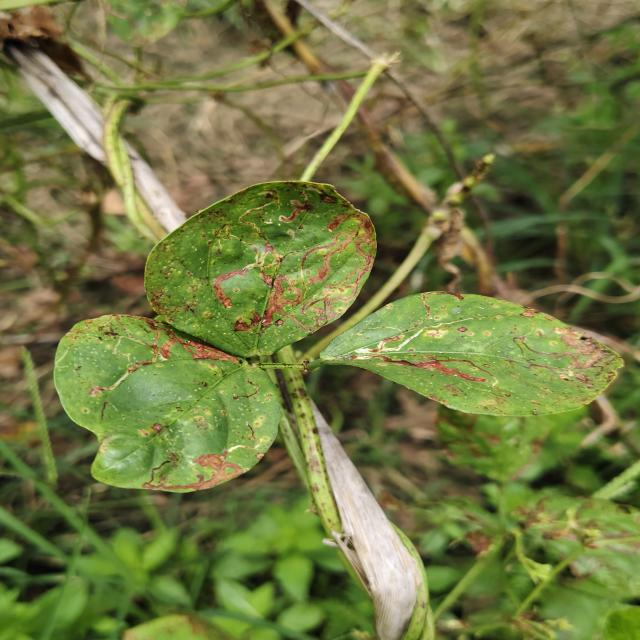healthy: (363, 292, 623, 417)
leaf-healthy: (54, 315, 280, 492), (286, 301, 303, 301)
leaf-moderate: (146, 181, 375, 357)
